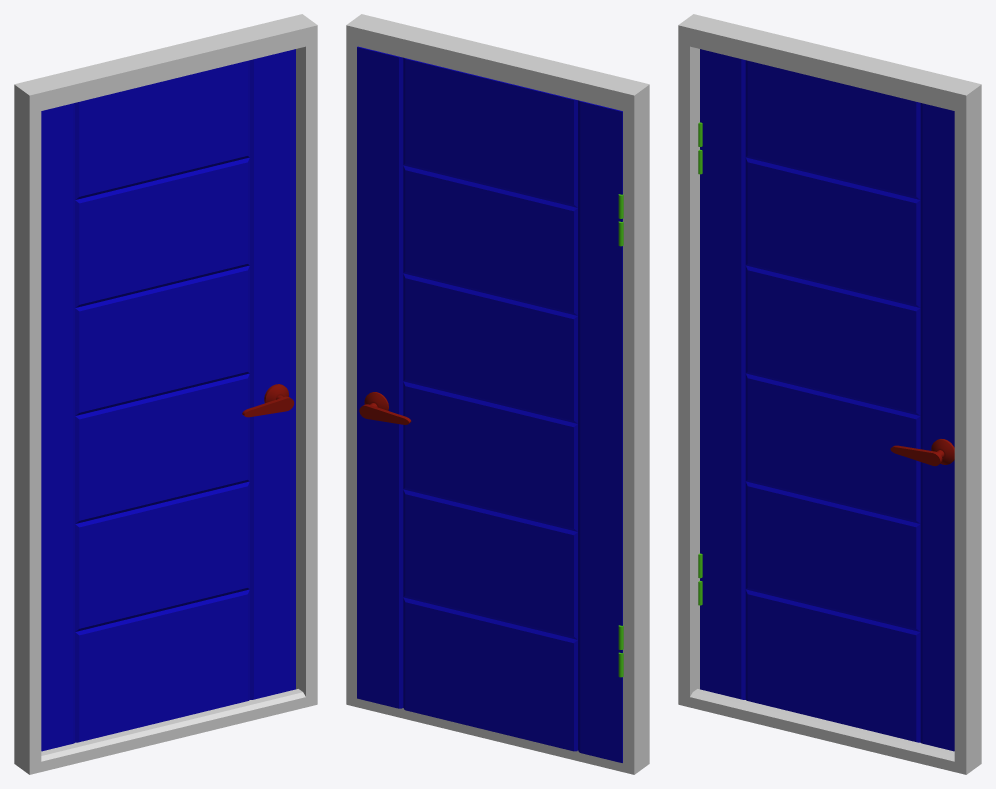
Rendered from room_door.fbx.
3 renders of one model, left to right at view 1: azimuth 30°, elevation 25°; view 2: azimuth 150°, elevation 25°; view 3: azimuth 330°, elevation 25°, orthographic.
Parts seen in each view (by area): view 1: door_body, door_frame; view 2: door_body, door_frame; view 3: door_body, door_frame.
Boxes of the visible parts, x1=… form: door_body: x1=41, y1=49, x2=295, y2=751; door_frame: x1=14, y1=14, x2=317, y2=774; door_body: x1=357, y1=46, x2=623, y2=762; door_frame: x1=346, y1=14, x2=649, y2=774; door_body: x1=698, y1=49, x2=954, y2=751; door_frame: x1=678, y1=14, x2=981, y2=774.
Bounding box in the file's own units: 97.77 × 220 × 16.69.
